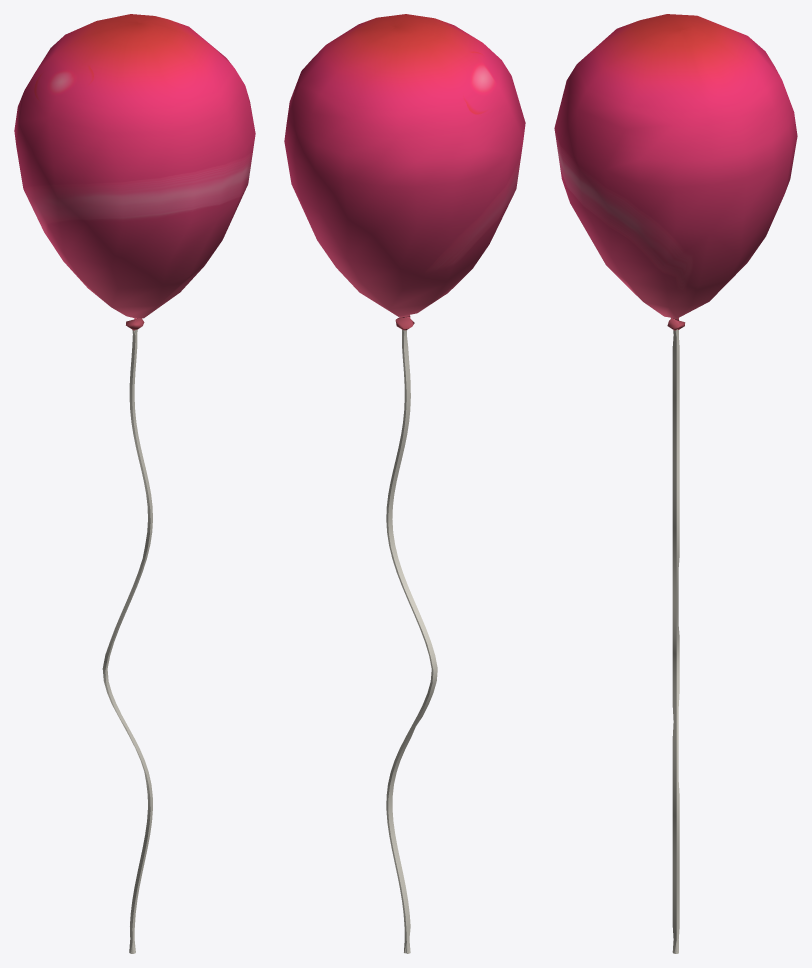
File: Ballon_Big.fbx
3 renders of one model, left to right at view 1: azimuth 30°, elevation 25°; view 2: azimuth 150°, elevation 25°; view 3: azimuth 270°, elevation 25°, orthographic.
Visible parts, largest first — view 1: polySurface2; view 2: polySurface2; view 3: polySurface2.
Part boxes in pixels (bbox=[...]): polySurface2: bbox=[14, 14, 255, 953]; polySurface2: bbox=[284, 14, 525, 953]; polySurface2: bbox=[554, 14, 797, 953].
Size of the model in its own units: 56.17 by 236 by 56.17.
Materials: 1 (1 with a texture image).
